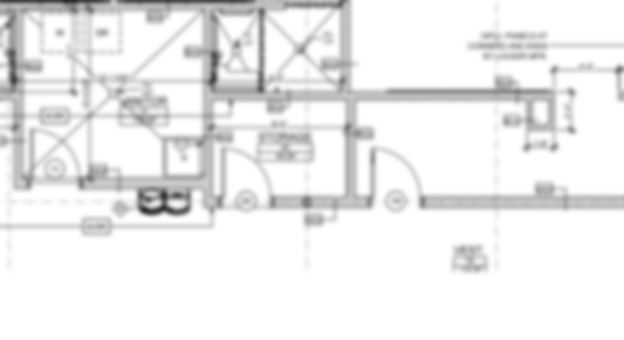door: (219, 145, 276, 199), (369, 146, 425, 200), (28, 126, 84, 180)
